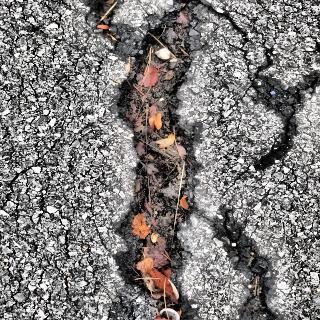crack: (106, 0, 208, 320)
